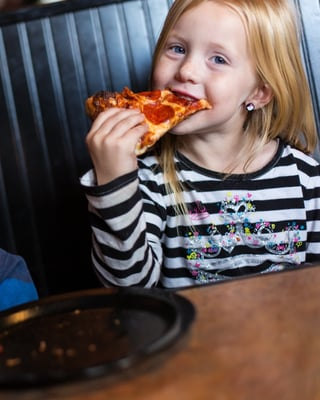sandwich: (83, 87, 215, 157)
